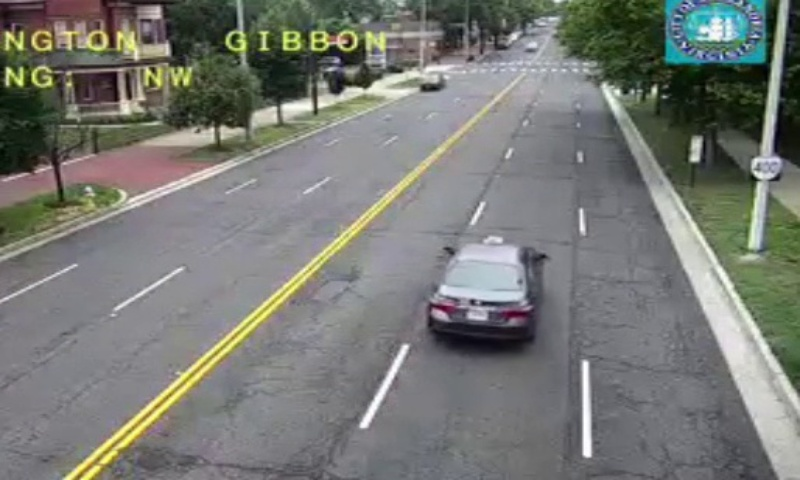car: (428, 242, 536, 338)
